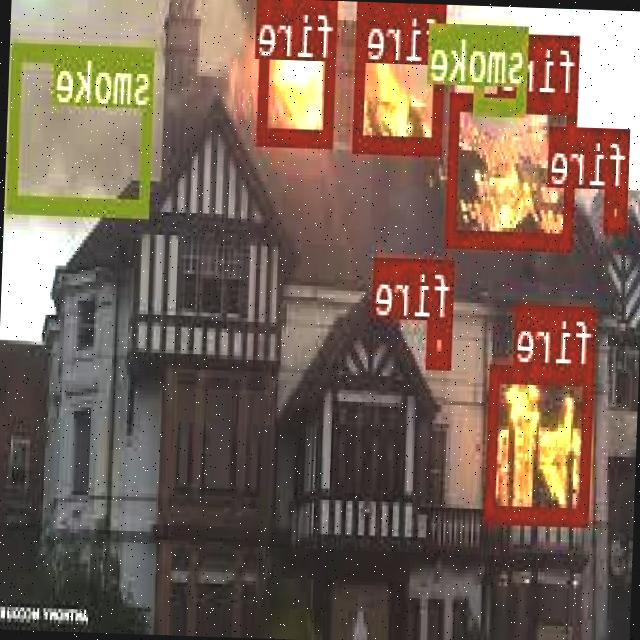fire: (446, 91, 578, 247), (488, 364, 594, 520), (354, 1, 448, 153), (257, 0, 337, 145), (428, 316, 453, 366), (605, 189, 628, 229)
smoke: (8, 40, 156, 213), (475, 22, 530, 114)
